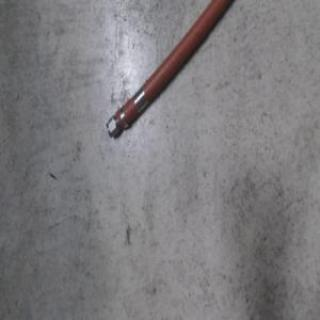Hosetrack_idkeyframe: (103, 0, 234, 139)
